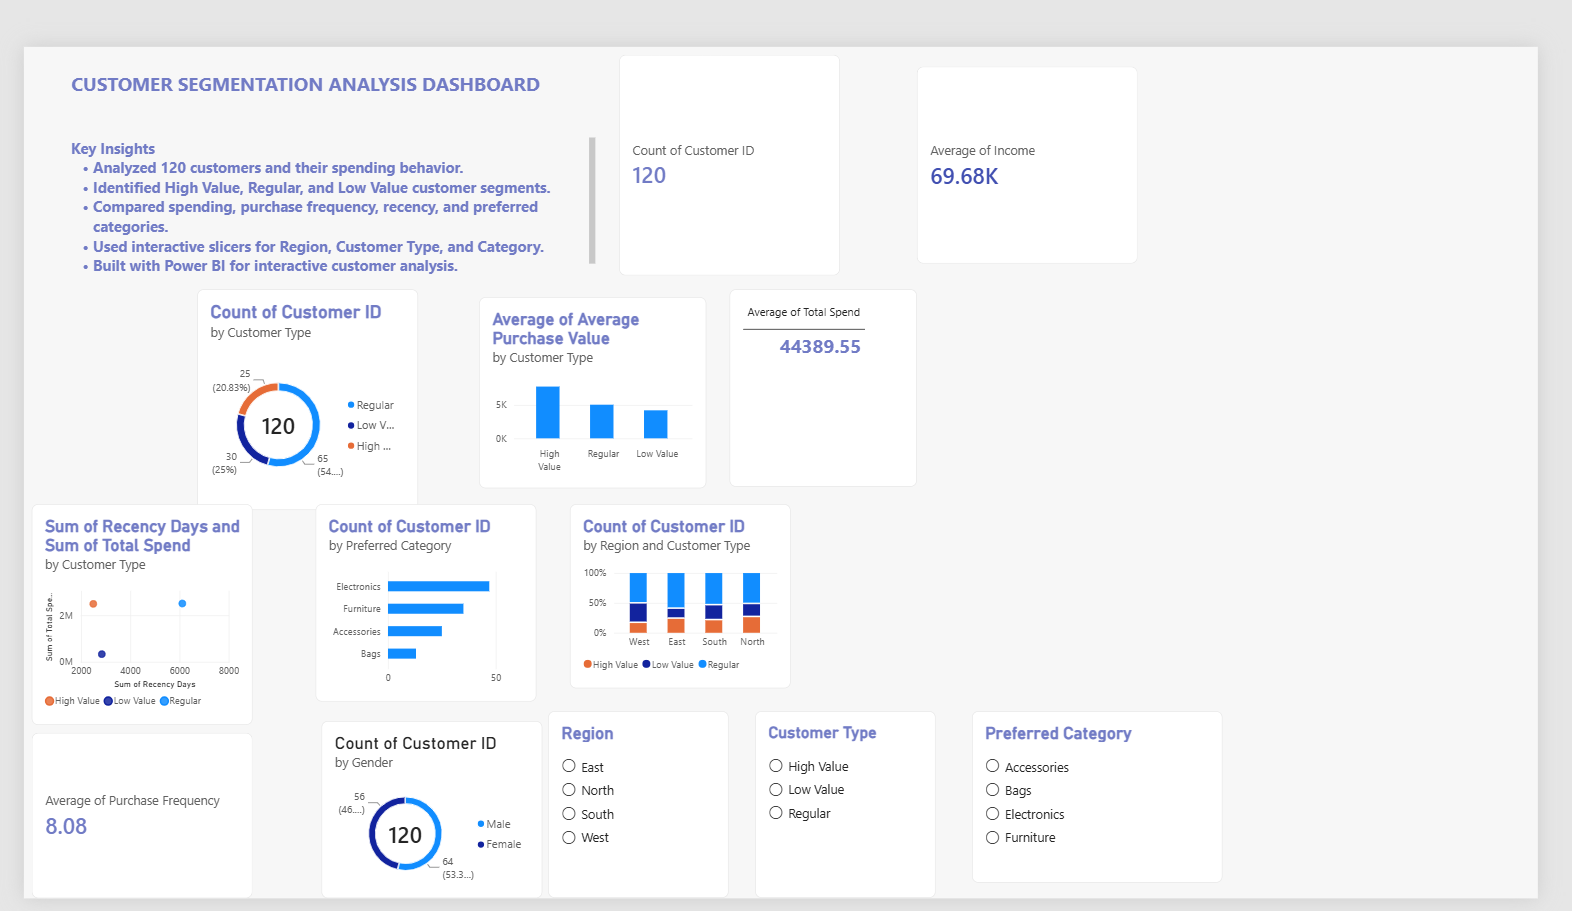

Layout of this report page (visuals, bound fields, positions):
{"tool":"powerbi","page":{"name":"Page 1","canvas":[1920,1080],"ordinal":0},"visuals":[{"type":"cardVisual","fields":{"Data":["Count(Sheet1.Customer ID)"]},"box":[755,10,280,280],"z":0},{"type":"cardVisual","fields":{"Data":["Avg(Sheet1.Income)"]},"box":[1132.5,25,280,250],"z":1000},{"type":"tableEx","fields":{"Values":["Avg(Sheet1.Total Spend)"]},"box":[895,307.5,237.8,250],"z":2000},{"type":"donutChart","fields":{"Category":["Sheet1.Customer Type"],"Y":["CountNonNull(Sheet1.Customer ID)"]},"box":[220,307.5,280,280],"z":3000},{"type":"clusteredColumnChart","fields":{"Category":["Sheet1.Customer Type"],"Y":["Avg(Sheet1.Average Purchase Value)"]},"box":[577.5,317.5,287.8,242.2],"z":4000},{"type":"hundredPercentStackedColumnChart","fields":{"Category":["Sheet1.Region"],"Series":["Sheet1.Customer Type"],"Y":["CountNonNull(Sheet1.Customer ID)"]},"box":[691.2,580,280,233.3],"z":5000},{"type":"scatterChart","fields":{"Series":["Sheet1.Customer Type"],"X":["Sum(Sheet1.Recency Days)"],"Y":["Sum(Sheet1.Total Spend)"]},"box":[10,580,280,280],"z":6000},{"type":"clusteredBarChart","fields":{"Category":["Sheet1.Preferred Category"],"Y":["CountNonNull(Sheet1.Customer ID)"]},"box":[370,580,280,250],"z":7000},{"type":"donutChart","fields":{"Category":["Sheet1.Gender"],"Y":["CountNonNull(Sheet1.Customer ID)"]},"box":[377.5,855,280,224.4],"z":8000},{"type":"cardVisual","fields":{"Data":["Avg(Sheet1.Purchase Frequency)"]},"box":[10,870,280,210],"z":9000},{"type":"textbox","box":[1240,15,280,250],"z":9002},{"type":"textbox","box":[60,30,662.5,85],"z":9004},{"type":"listSlicer","fields":{"Values":["Sheet1.Region"]},"box":[665,842.5,229,237],"z":9005},{"type":"listSlicer","fields":{"Values":["Sheet1.Customer Type"]},"box":[927.5,842.5,229,237],"z":9006},{"type":"listSlicer","fields":{"Values":["Sheet1.Preferred Category"]},"box":[1202.5,842.5,317.5,217.5],"z":9007},{"type":"textbox","box":[60,115,665,175],"z":9008}]}

Visuals, with their boxes in screenshot pixels (x1, y1, x2, y2), scaled from the page's 1920x1080 canvas onto the 1572x911 screenshot:
cardVisual - Count(Sheet1.Customer ID): 618,8,847,245
cardVisual - Avg(Sheet1.Income): 927,21,1156,232
tableEx - Avg(Sheet1.Total Spend): 733,259,927,470
donutChart - Sheet1.Customer Type x CountNonNull(Sheet1.Customer ID): 180,259,409,496
clusteredColumnChart - Sheet1.Customer Type x Avg(Sheet1.Average Purchase Value): 473,268,708,472
hundredPercentStackedColumnChart - Sheet1.Region x Sheet1.Customer Type: 566,489,795,686
scatterChart - Sheet1.Customer Type x Sum(Sheet1.Recency Days): 8,489,237,725
clusteredBarChart - Sheet1.Preferred Category x CountNonNull(Sheet1.Customer ID): 303,489,532,700
donutChart - Sheet1.Gender x CountNonNull(Sheet1.Customer ID): 309,721,538,910
cardVisual - Avg(Sheet1.Purchase Frequency): 8,734,237,910
textbox: 1015,13,1244,224
textbox: 49,25,592,97
listSlicer - Sheet1.Region: 544,711,732,910
listSlicer - Sheet1.Customer Type: 759,711,947,910
listSlicer - Sheet1.Preferred Category: 985,711,1244,894
textbox: 49,97,594,245
